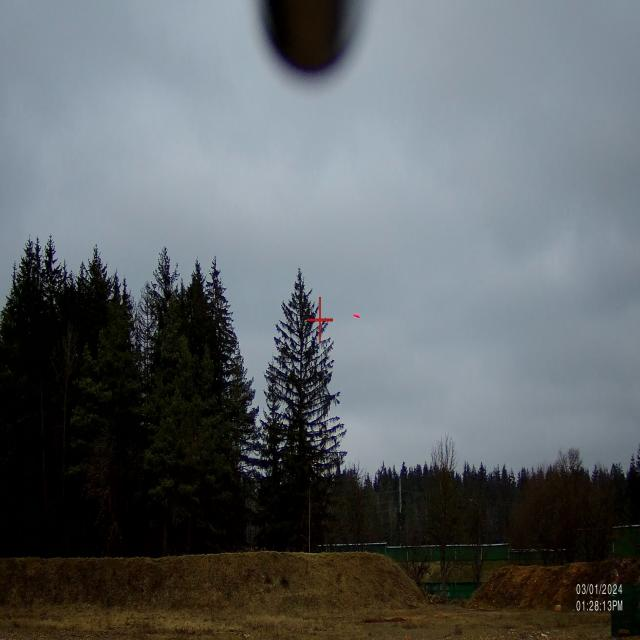entire: (351, 306, 364, 326)
